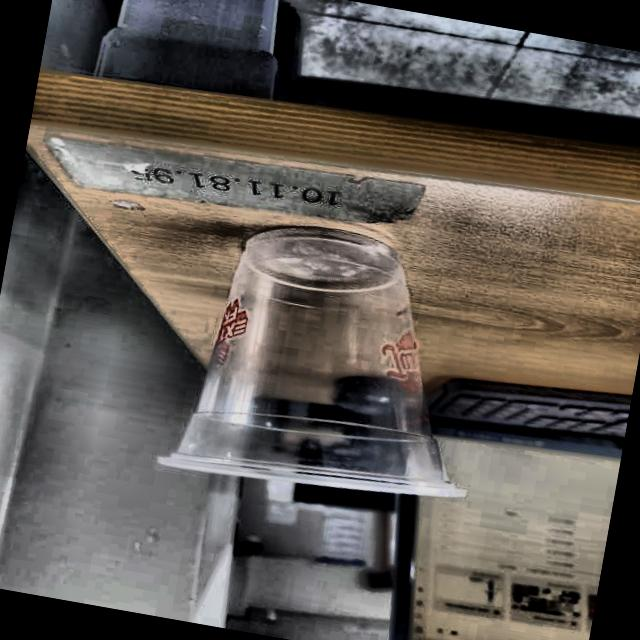plastic cup: (152, 208, 509, 522)
